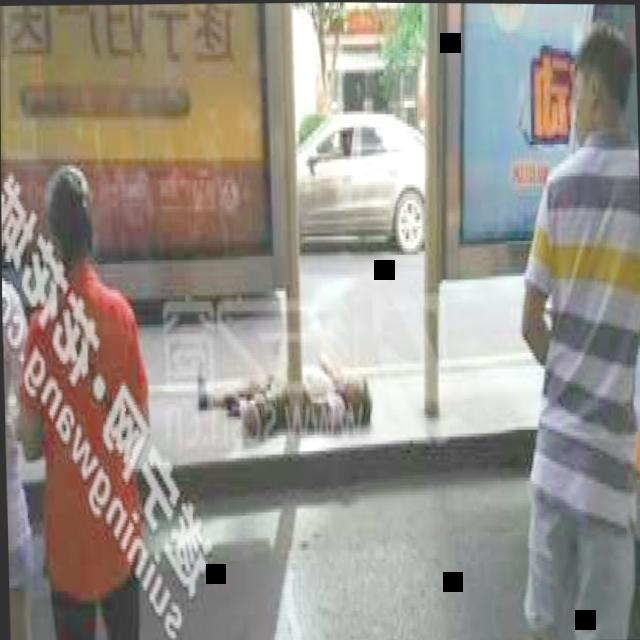Fall-Detected: (180, 314, 384, 453)
